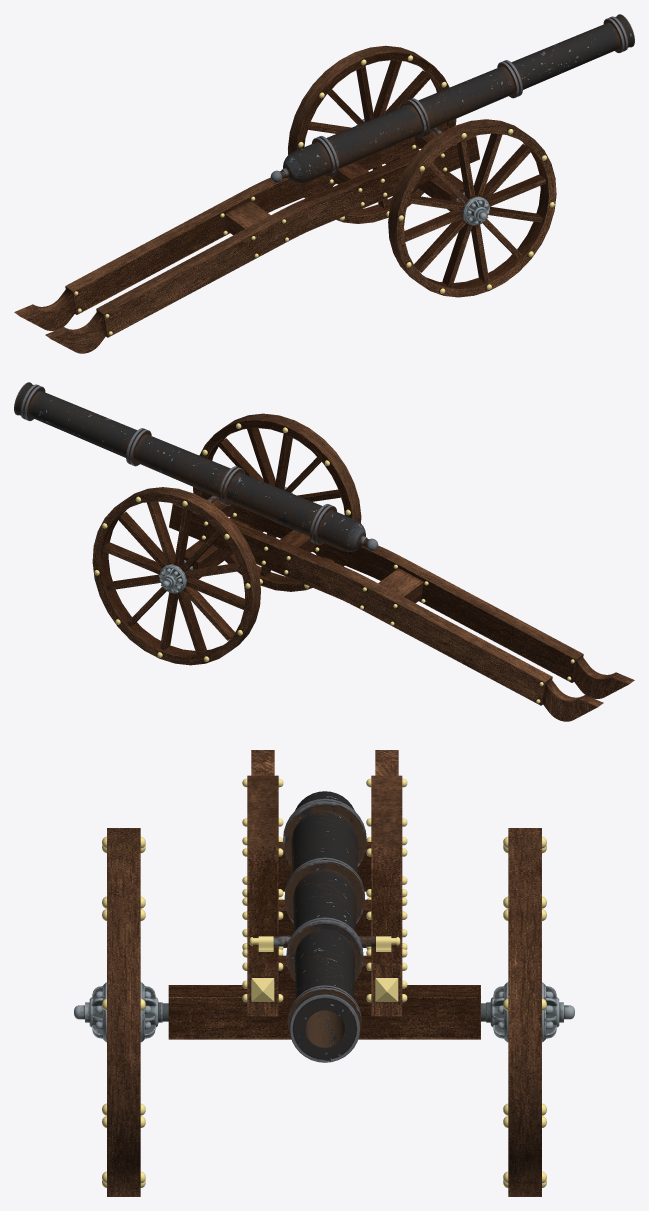
File: canon.fbx
3 renders of one model, top to bottom at view 1: azimuth 30°, elevation 25°; view 2: azimuth 150°, elevation 25°; view 3: azimuth 270°, elevation 25°, orthographic. The views are drawn at different scales.
Visible parts, largest first — view 1: Canon; view 2: Canon; view 3: Canon.
Part boxes in pixels (x1=…): Canon: x1=14, y1=14, x2=634, y2=353; Canon: x1=14, y1=382, x2=634, y2=721; Canon: x1=74, y1=750, x2=574, y2=1196.
Bounding box in the file's own units: 1068 × 327 × 389.
